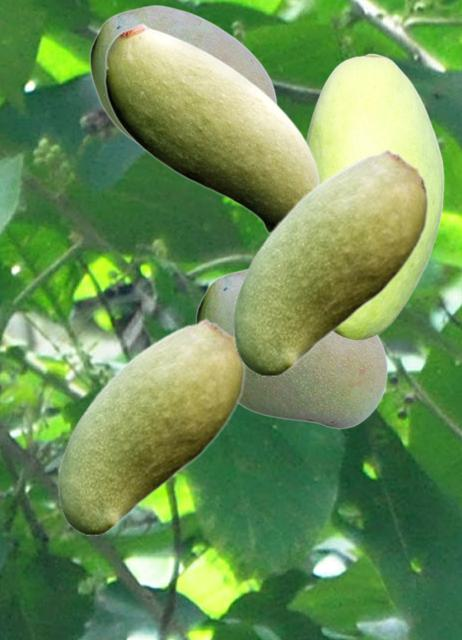green_mango: (104, 22, 319, 233), (232, 148, 428, 375), (57, 318, 244, 534), (305, 53, 443, 339), (195, 269, 387, 428), (89, 4, 276, 140)
